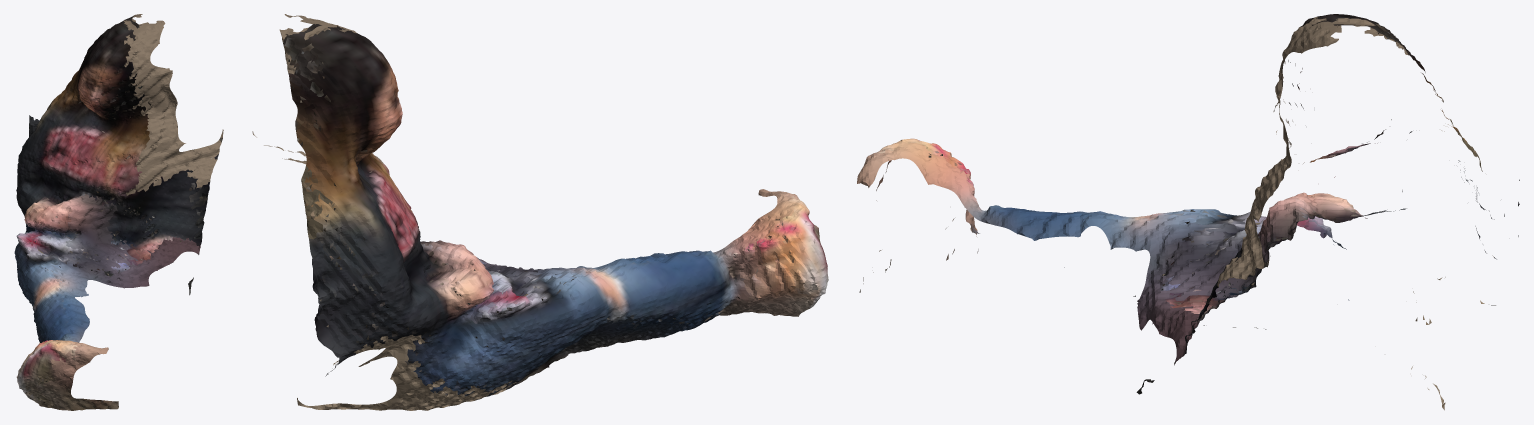
3 renders of one model, left to right at view 1: azimuth 30°, elevation 25°; view 2: azimuth 150°, elevation 25°; view 3: azimuth 270°, elevation 25°, orthographic. The views are drawn at different scales.
Size of the model in its own units: 0.9746 by 0.736 by 1.1.
Materials: 1 (1 with a texture image).
